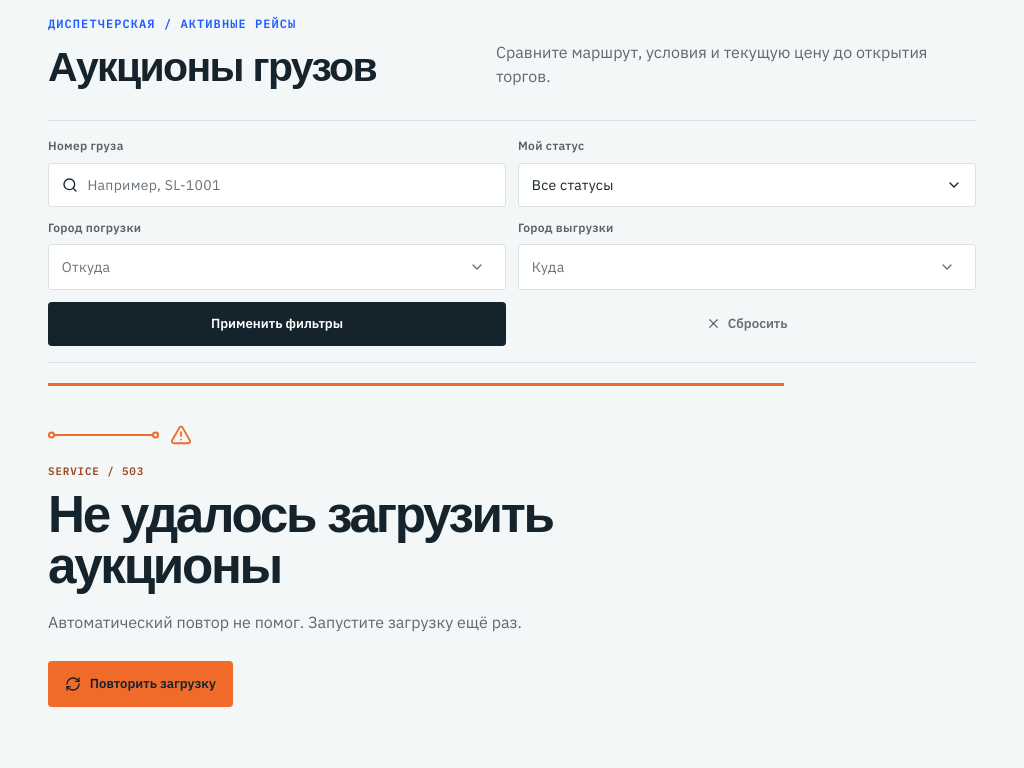
auction list feature › explains a list error and retries it on request
The image size is (1024, 768).
(page scrolled)
Expected: the heading "Не удалось загрузить аукционы" is shown, x1=48 y1=486 x2=553 y2=594
Click the button "Повторить загрузку": (140, 684) x1=48 y1=661 x2=233 y2=707
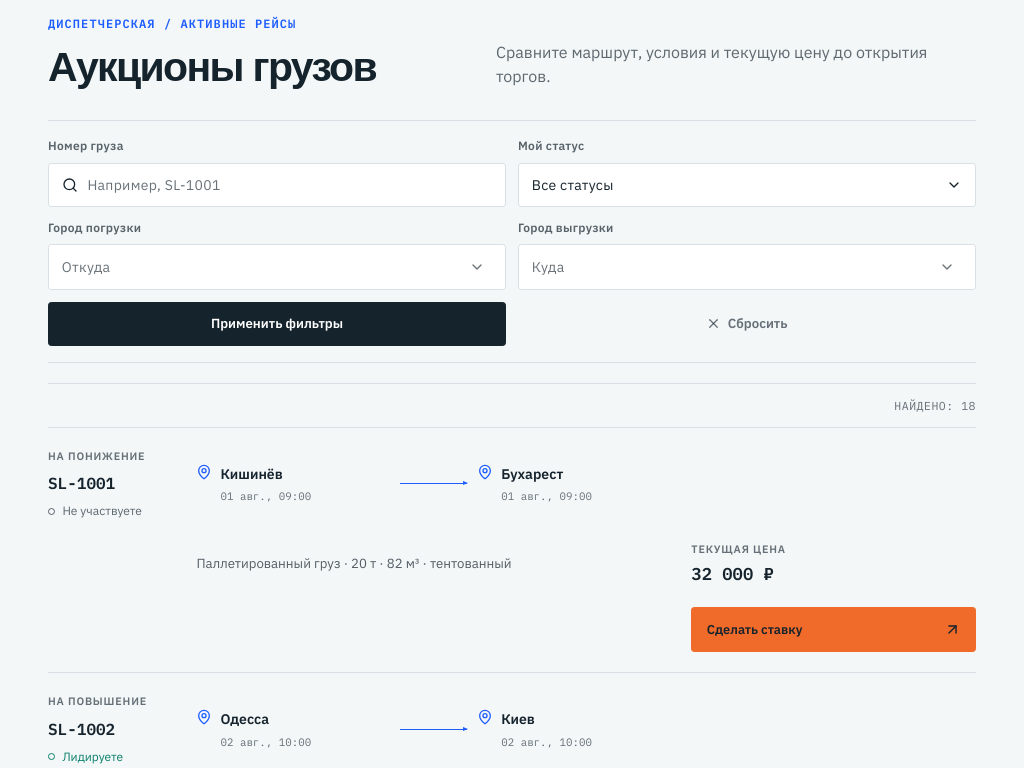
Result: the link with aria-label "SL-1001" is shown at x1=691 y1=607 x2=976 y2=652
